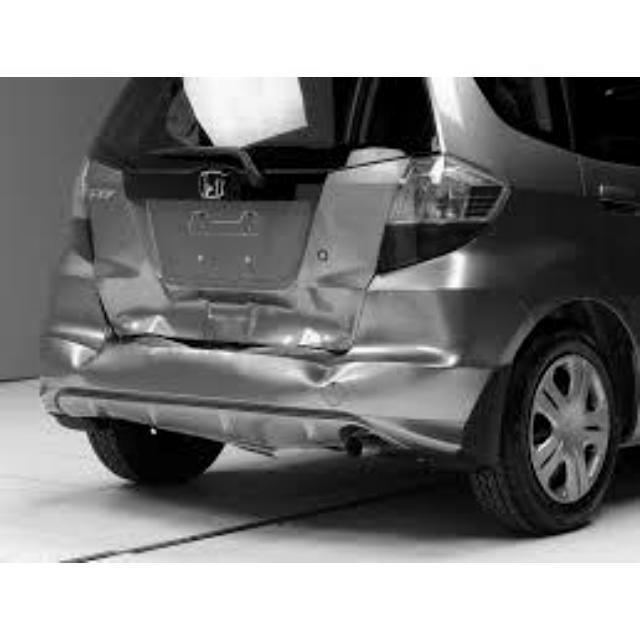boot-dent: (95, 147, 400, 340)
rear-bumper-dent: (55, 338, 412, 442)
